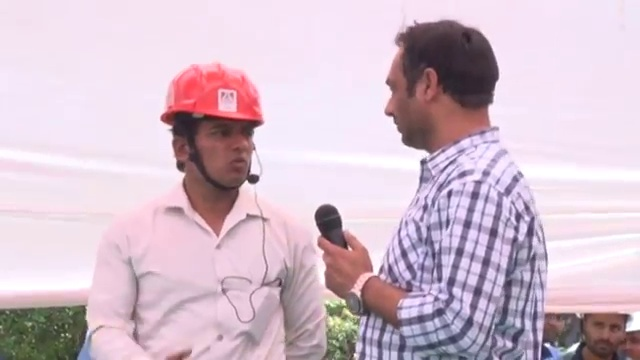helmet: (157, 71, 270, 129)
helmet_off: (384, 25, 498, 140), (576, 311, 630, 360), (539, 309, 582, 353)
helmet_on: (160, 71, 269, 189)
person: (74, 56, 348, 360), (315, 24, 543, 360)
